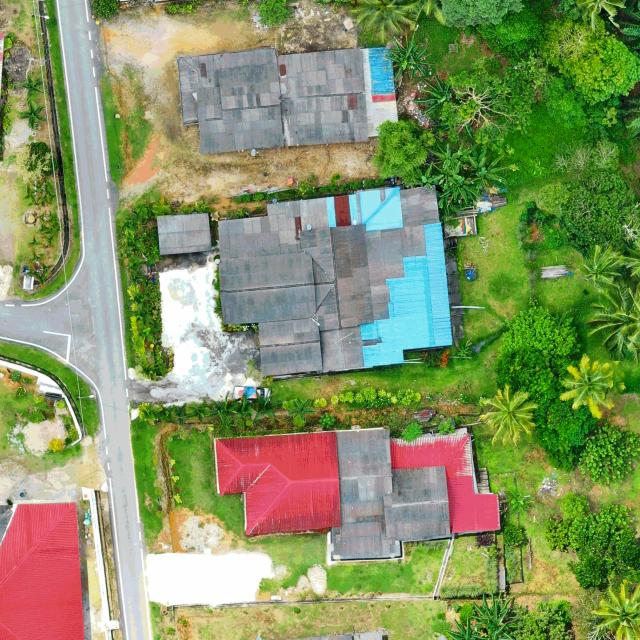Tree: (440, 49, 546, 150), (541, 17, 640, 106), (539, 355, 598, 473), (562, 167, 640, 256), (493, 345, 558, 432), (498, 305, 582, 361), (372, 119, 438, 189), (583, 277, 640, 357), (577, 421, 640, 487), (477, 384, 538, 446), (559, 356, 614, 419), (349, 0, 418, 45), (591, 579, 640, 640), (378, 28, 434, 78), (508, 598, 574, 640), (574, 242, 627, 293), (433, 161, 481, 208), (424, 134, 480, 174), (413, 74, 458, 122), (466, 149, 510, 195), (563, 0, 628, 30), (470, 590, 513, 629), (502, 489, 535, 518), (415, 162, 444, 194), (444, 618, 486, 640), (18, 100, 47, 130), (258, 0, 288, 28), (472, 620, 514, 640), (288, 396, 316, 422), (21, 72, 44, 101), (502, 522, 524, 550), (400, 419, 424, 443), (435, 418, 457, 436)
